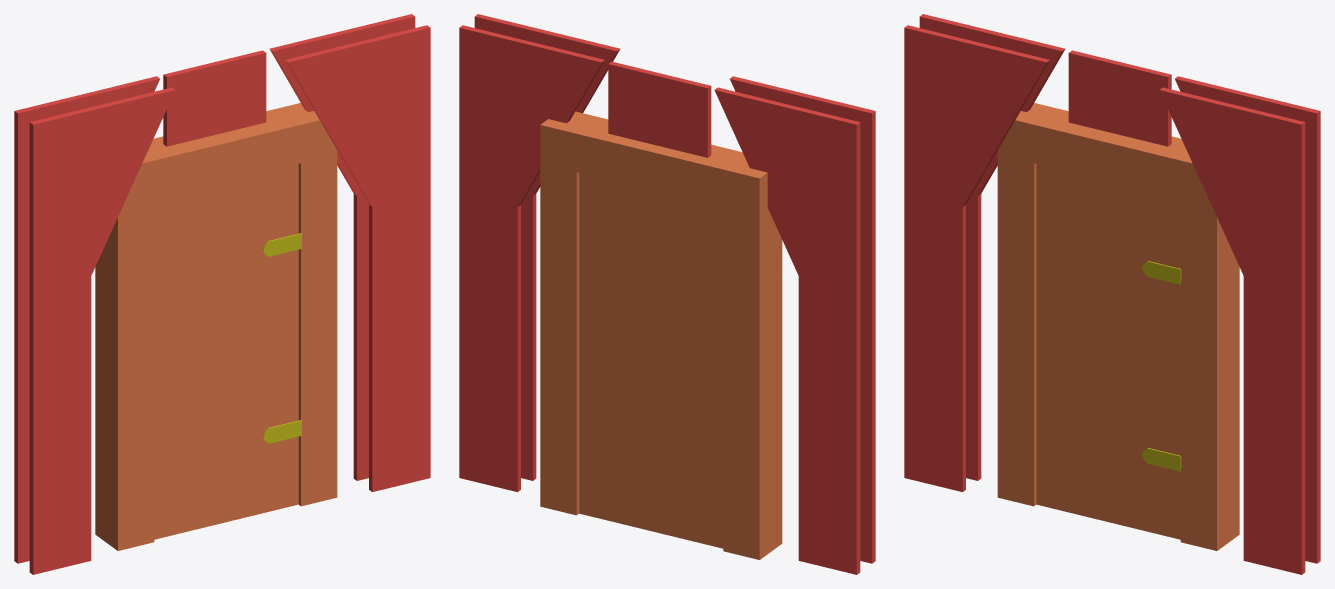
The model's file is Door.fbx.
3 views of the same model, side by side, from view 1: azimuth 30°, elevation 25°; view 2: azimuth 150°, elevation 25°; view 3: azimuth 330°, elevation 25° (orthographic).
Visible parts, largest first — view 1: Curtain_Opened.001, Door, DoorFrame, Curtain_Opened, Curtain_Closed_Part, Door.001; view 2: Curtain_Opened, Door, DoorFrame, Curtain_Opened.001, Curtain_Closed_Part; view 3: Curtain_Opened.001, Door, DoorFrame, Curtain_Opened, Curtain_Closed_Part, Door.001.
Boxes of the visible parts, x1,y1,x2,y2 form: Curtain_Opened.001: (29, 25, 430, 574); Door: (154, 164, 298, 539); DoorFrame: (95, 103, 337, 550); Curtain_Opened: (14, 14, 415, 563); Curtain_Closed_Part: (163, 50, 266, 146); Door.001: (262, 233, 301, 443); Curtain_Opened: (459, 25, 860, 574); Door: (579, 173, 723, 548); DoorFrame: (540, 111, 782, 559); Curtain_Opened.001: (474, 14, 875, 563); Curtain_Closed_Part: (608, 61, 711, 157); Curtain_Opened.001: (904, 25, 1305, 574); Door: (1036, 164, 1180, 539); DoorFrame: (997, 103, 1239, 550); Curtain_Opened: (919, 14, 1320, 563); Curtain_Closed_Part: (1068, 50, 1171, 146); Door.001: (1142, 261, 1181, 471).
Bounding box in the file's own units: 1087 × 1180 × 127.
